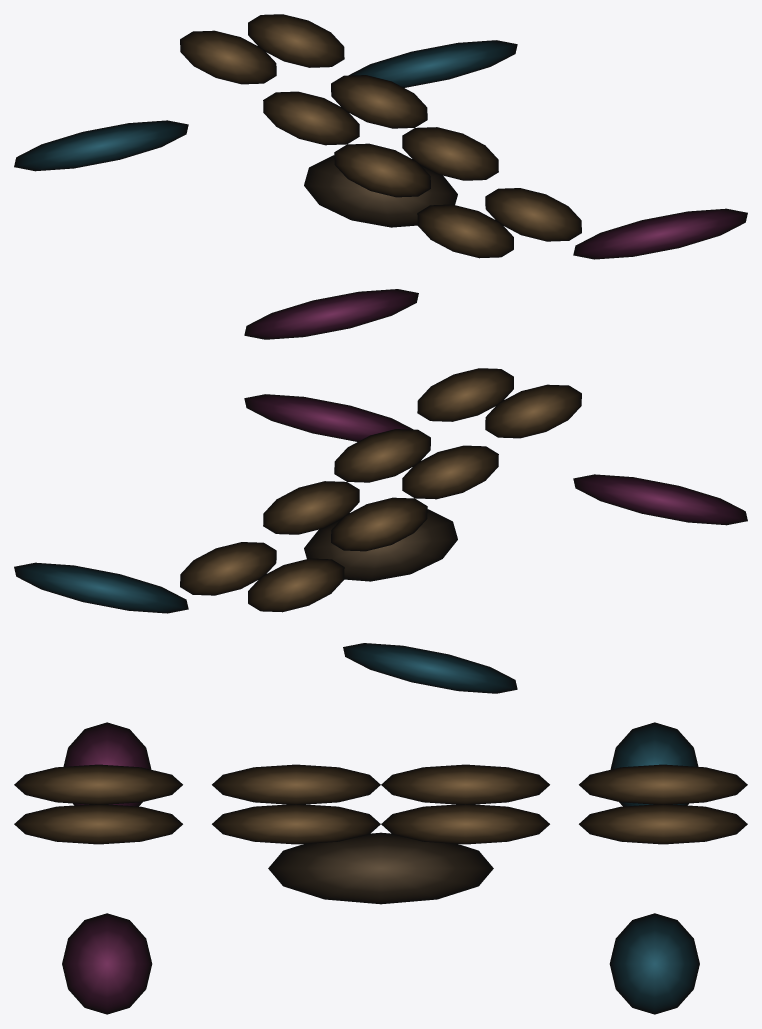
File: overpass_shaft.glb
3 renders of one model, top to bottom at view 1: azimuth 30°, elevation 25°; view 2: azimuth 150°, elevation 25°; view 3: azimuth 270°, elevation 25°, orthographic. The views are drawn at different scales.
Visible parts, largest first — view 1: shaft; view 2: shaft; view 3: shaft.
Part boxes in pixels (<box>): shaft: <box>14,14,747,339</box>; shaft: <box>14,368,747,693</box>; shaft: <box>14,722,747,1014</box>.
Size of the model in its own units: 49 by 5 by 52.
